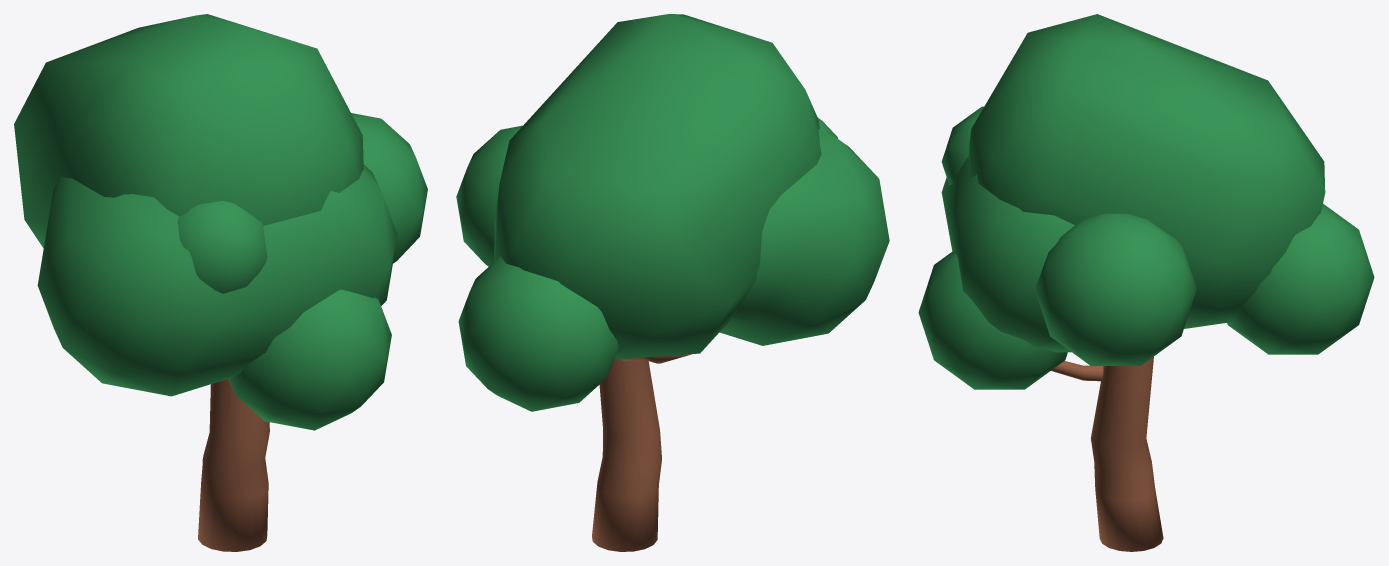
Rendered from tree1.fbx.
The picture shows the model from 3 angles, left to right: view 1: azimuth 30°, elevation 25°; view 2: azimuth 150°, elevation 25°; view 3: azimuth 270°, elevation 25°; orthographic projection. The views are drawn at different scales.
Parts seen in each view (by area): view 1: leaves, tree_trunk; view 2: leaves, tree_trunk; view 3: leaves, tree_trunk, branches.
Part boxes in pixels (left/top/right/bottom): leaves: left=14, top=14, right=427, bottom=430; tree_trunk: left=198, top=379, right=269, bottom=551; leaves: left=456, top=14, right=889, bottom=411; tree_trunk: left=592, top=359, right=661, bottom=551; leaves: left=918, top=14, right=1374, bottom=389; tree_trunk: left=1090, top=356, right=1163, bottom=551; branches: left=1051, top=361, right=1103, bottom=381.
Size of the model in its own units: 1290 by 1686 by 1427.
